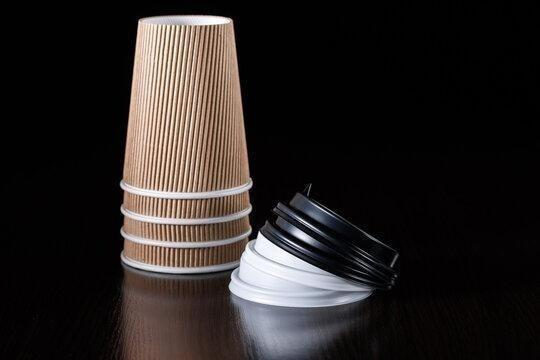cup-disposable: (116, 9, 256, 279)
